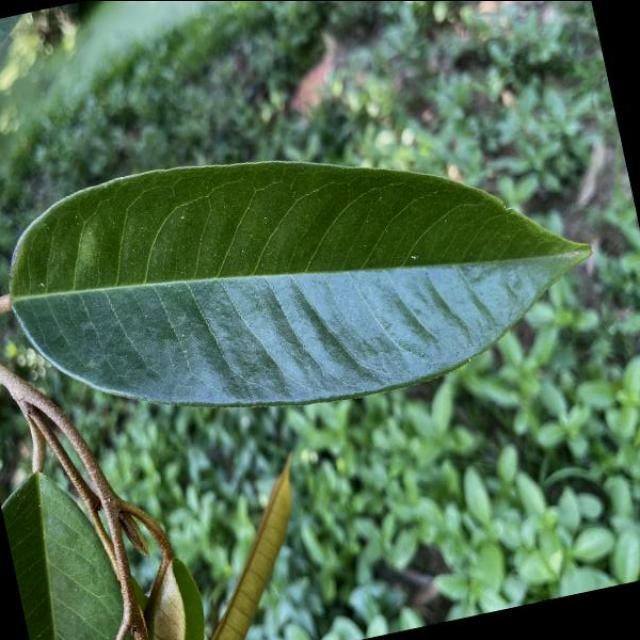No Disease: (0, 71, 614, 477)
